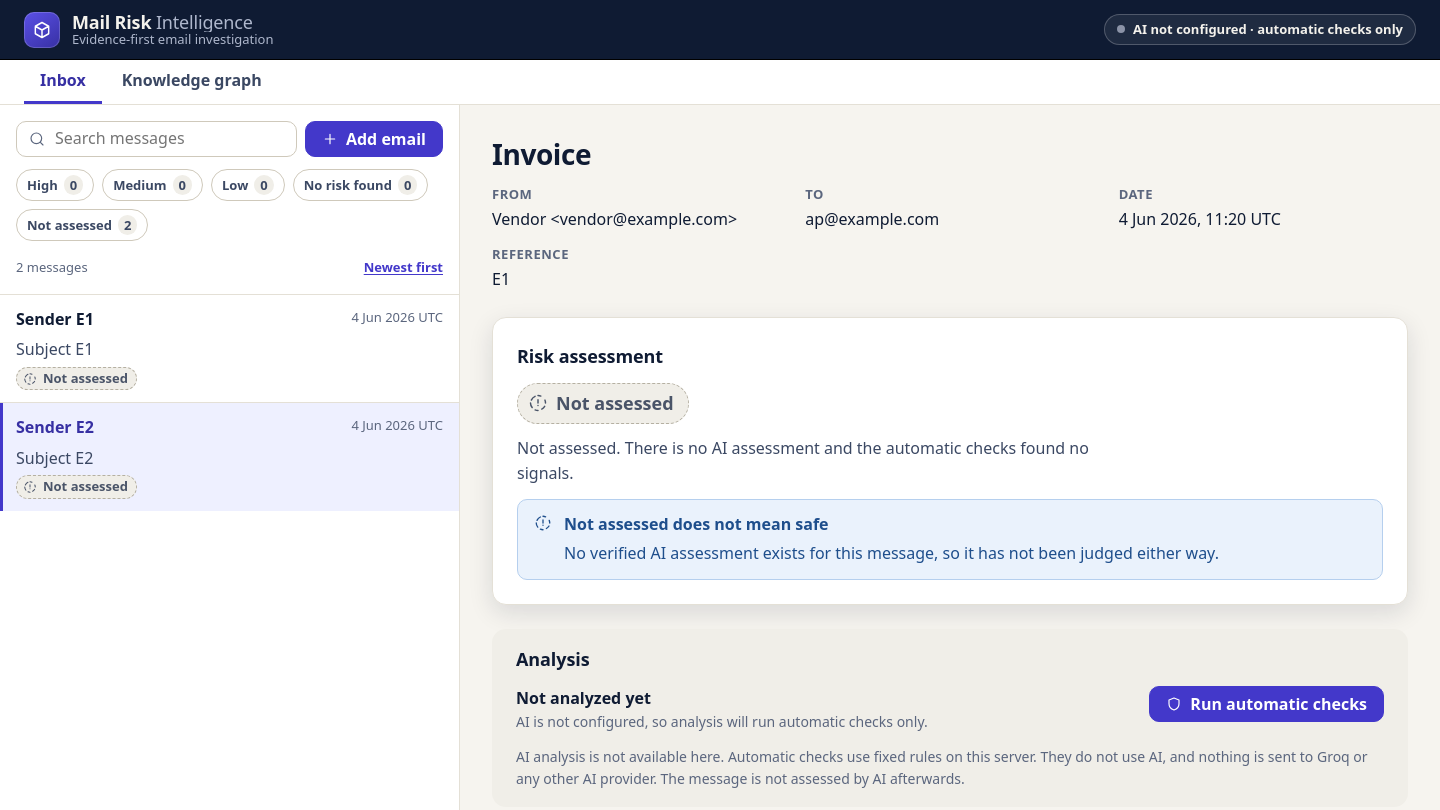
Test: automatic-checks eligibility in the detail view › a 409 race refreshes the record and says nothing was changed, instead of leaving a dead button
Click the button "Run automatic checks" at (1267, 704), box [1149,686,1384,722]
(page scrolled)
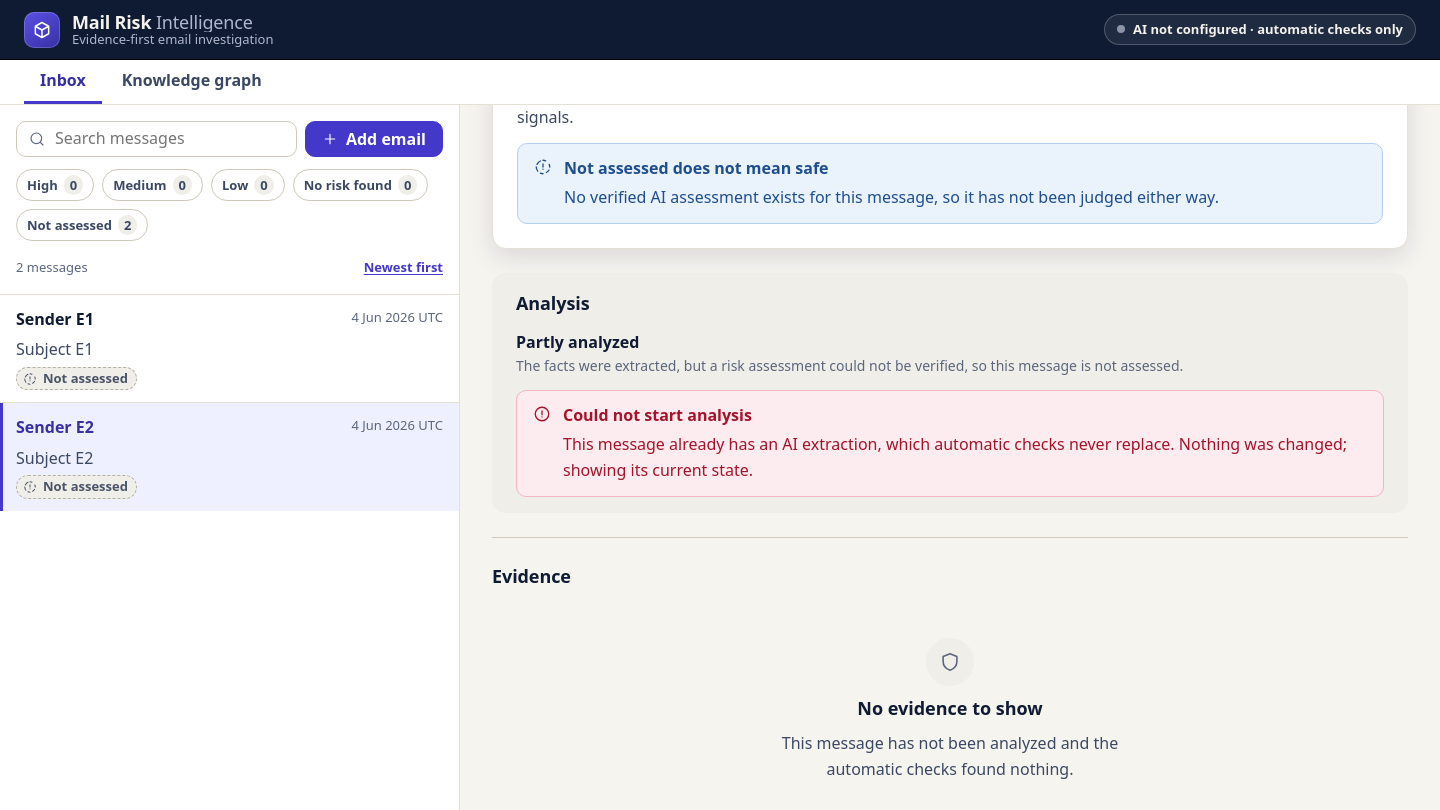
Expected: the text "run automatic checks" is gone
